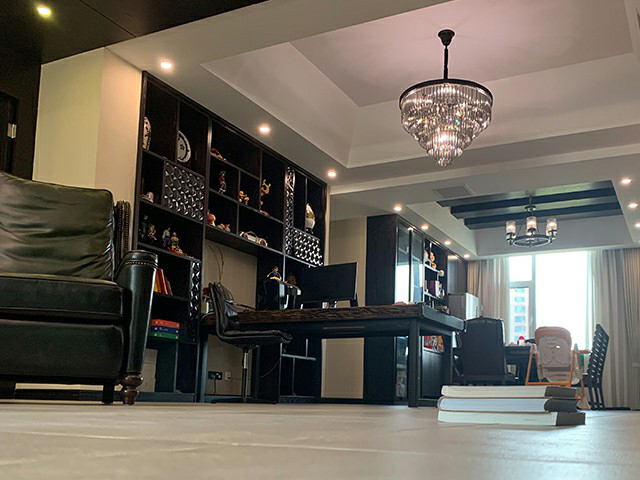book: (436, 384, 586, 431)
cabinet: (134, 298, 210, 404), (363, 341, 445, 408), (259, 337, 324, 402)
curtain: (608, 245, 640, 408)
sofa: (1, 171, 154, 407)
stool: (207, 279, 293, 405), (461, 316, 519, 385), (576, 322, 609, 412)
table: (196, 301, 466, 409)
